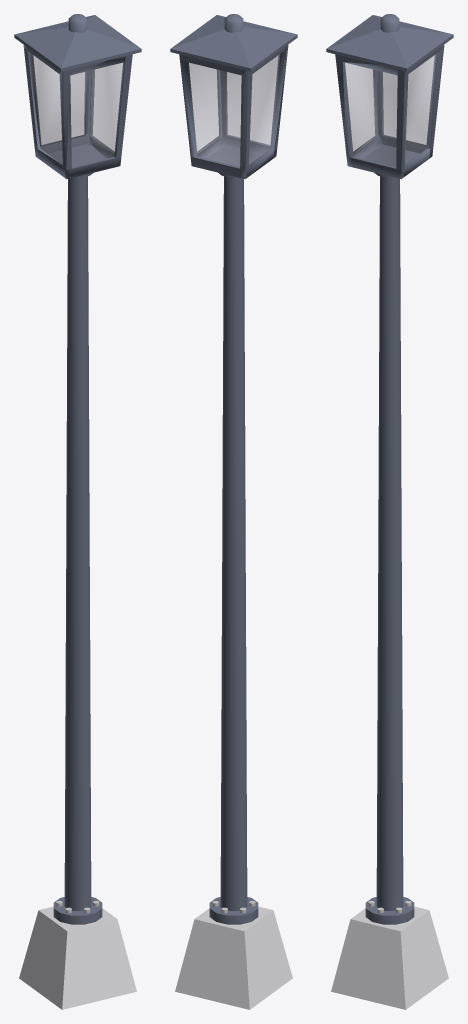
The model's file is farol.glb.
3 views of the same model, side by side, from view 1: azimuth 30°, elevation 25°; view 2: azimuth 150°, elevation 25°; view 3: azimuth 330°, elevation 25° (orthographic).
Visible parts, largest first — view 1: farol; view 2: farol; view 3: farol.
Part boxes in pixels (x1=…): farol: x1=14, y1=14, x2=141, y2=1009; farol: x1=170, y1=14, x2=297, y2=1009; farol: x1=326, y1=14, x2=453, y2=1009.
Bounding box in the file's own units: 20 × 230 × 20.
